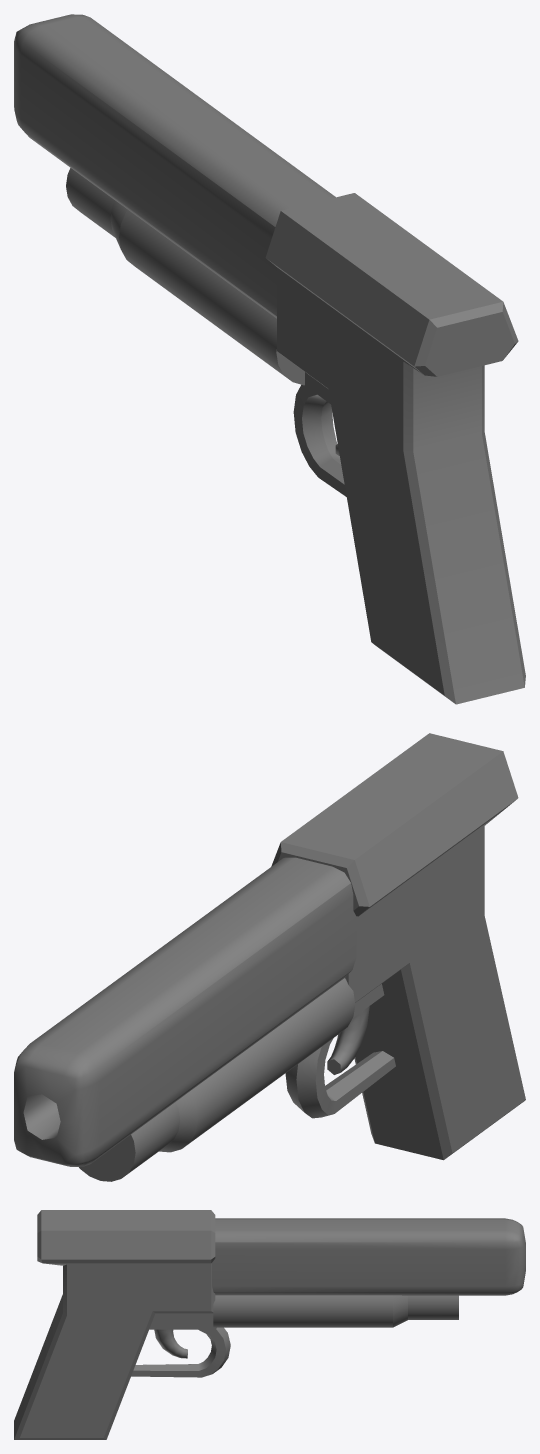
Rendered from Pistol.fbx.
The picture shows the model from 3 angles, top to bottom: view 1: azimuth 30°, elevation 25°; view 2: azimuth 150°, elevation 25°; view 3: azimuth 270°, elevation 25°; orthographic projection. The views are drawn at different scales.
Parts seen in each view (by area): view 1: Pistol; view 2: Pistol; view 3: Pistol.
Boxes of the visible parts, x1,y1,x2,y2 form: Pistol: (14, 14, 525, 704); Pistol: (14, 733, 525, 1181); Pistol: (14, 1210, 525, 1439).
Bounding box in the file's own units: 2.12 × 7.16 × 15.82.
